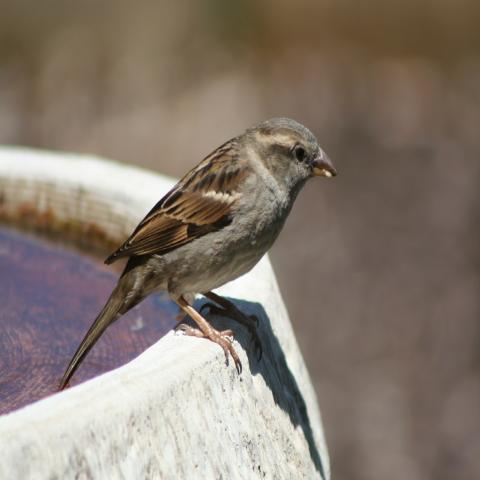bird: (56, 114, 339, 392)
